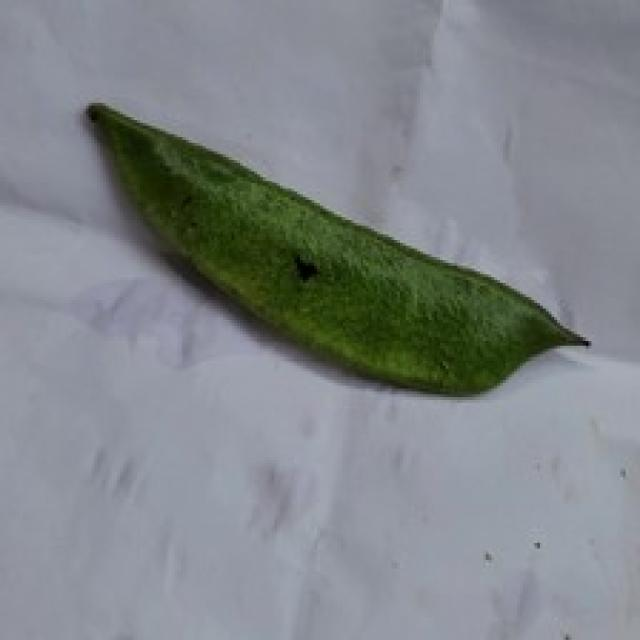Bean: (83, 97, 591, 397)
